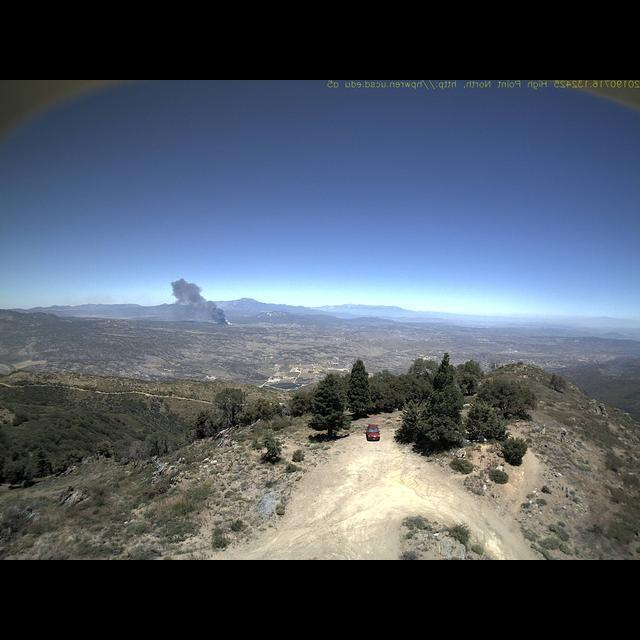Smoke: (167, 274, 239, 330)
